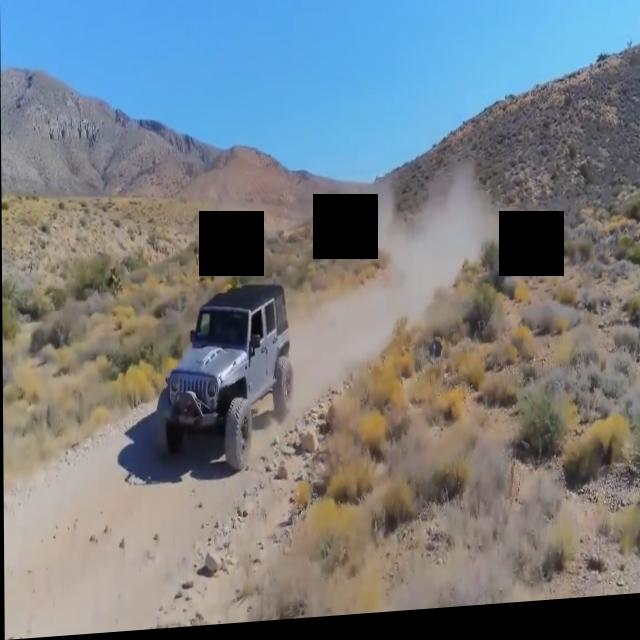Vehicle: (156, 283, 296, 477)
